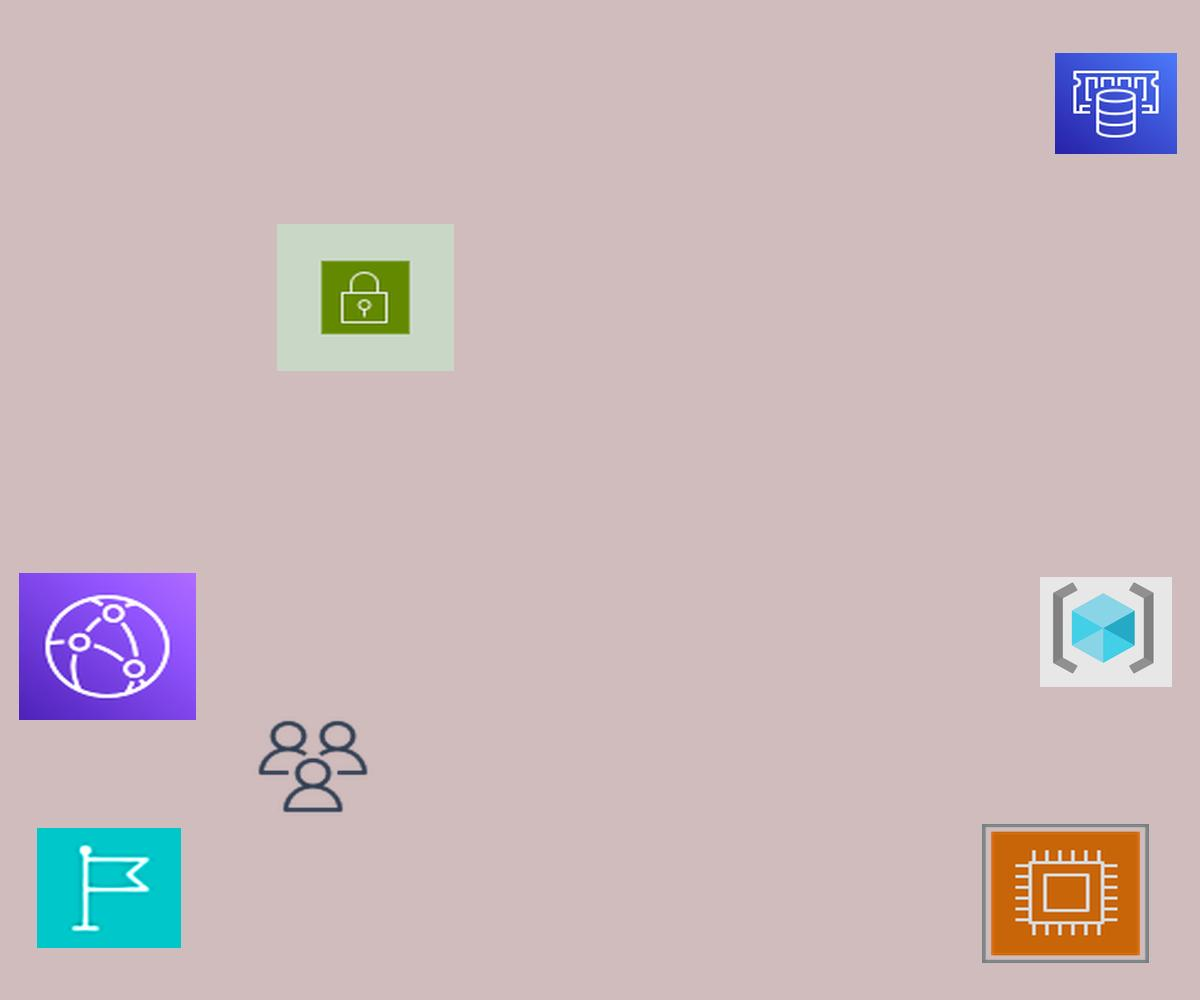AWS-Category_Compute: (982, 824, 1149, 963)
AWS-CloudFront: (19, 573, 196, 720)
AWS-ElastiCache: (1055, 53, 1177, 154)
AWS-Public-subnet: (277, 224, 454, 371)
AWS-Region: (37, 828, 181, 948)
AWS-Res_Users: (254, 717, 372, 816)
Azure_resource_group: (1040, 577, 1172, 687)
